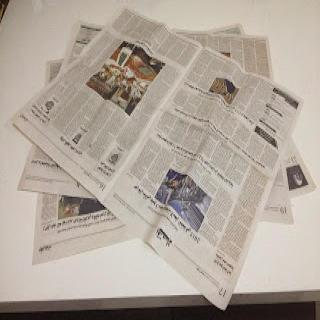Anorganik: (9, 5, 304, 308)
